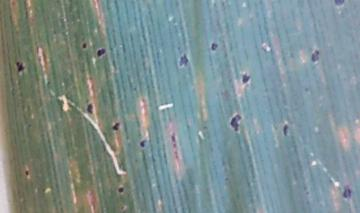tarspot: (226, 108, 245, 137), (173, 50, 193, 70), (338, 183, 356, 203), (237, 67, 253, 89), (11, 56, 27, 76), (307, 47, 322, 67), (279, 121, 292, 140), (92, 46, 111, 58), (207, 39, 221, 54), (137, 135, 150, 151), (83, 100, 95, 117), (108, 118, 121, 133), (113, 183, 126, 195), (22, 165, 32, 179), (78, 39, 89, 51), (330, 1, 348, 8)
